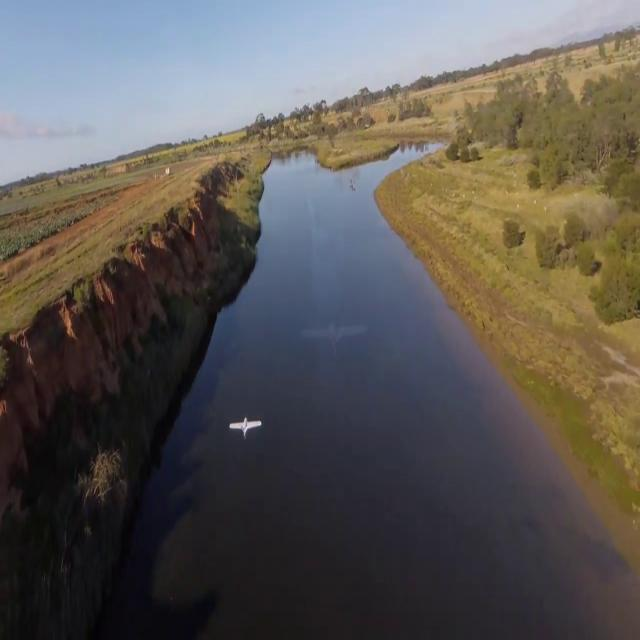iha: (225, 418, 262, 434)
